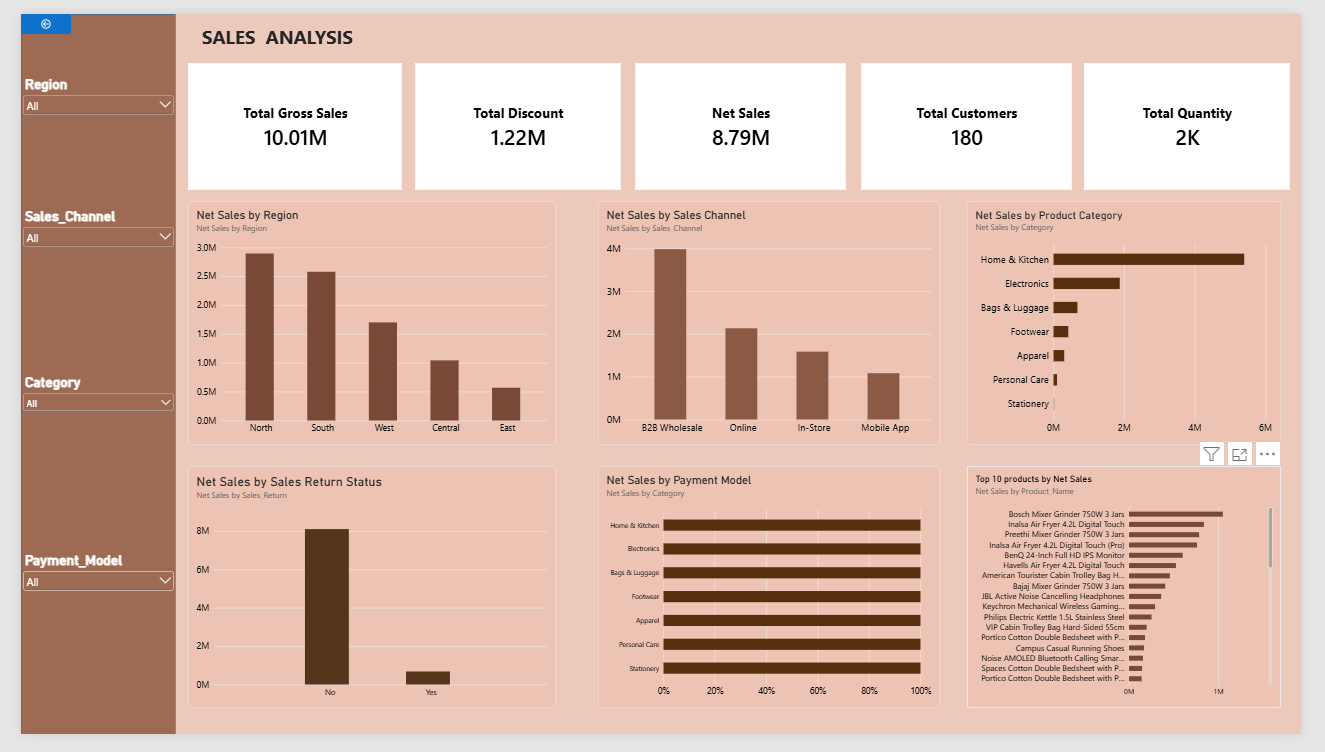

Layout of this report page (visuals, bound fields, positions):
{"tool":"powerbi","page":{"name":"Page 1","canvas":[2560,1440],"ordinal":0},"visuals":[{"type":"shape","box":[0,0,309.3,1439.5],"z":0},{"type":"actionButton","box":[0,0,100,40],"z":1000},{"type":"textbox","box":[310,20,715,65],"z":2000},{"type":"cardVisual","fields":{"Data":["Customer Data.Total Gross Sales"]},"box":[334,98,428,254],"z":3000},{"type":"cardVisual","fields":{"Data":["Customer Data.Total Discount"]},"box":[788,98,412,254],"z":4000},{"type":"cardVisual","fields":{"Data":["Customer Data.Net Sales"]},"box":[1228,98,422,254],"z":5000},{"type":"cardVisual","fields":{"Data":["Customer Data.Total Customers"]},"box":[1680,98,422,254],"z":6000},{"type":"cardVisual","fields":{"Data":["Customer Data.Total Quantity"]},"box":[2126,98,412,254],"z":7000},{"type":"columnChart","title":"Net Sales by Region","fields":{"Category":["Customer Data.Region"],"Y":["Customer Data.Net Sales"]},"box":[334,374,736,488],"z":8000},{"type":"clusteredColumnChart","title":"Net Sales by Sales Channel ","fields":{"Category":["Orders Data.Sales_Channel"],"Y":["Customer Data.Net Sales"]},"box":[1154,374,684,488],"z":9000},{"type":"clusteredColumnChart","title":"Net Sales by Sales Return Status ","fields":{"Category":["Orders Data.Sales_Return"],"Y":["Customer Data.Net Sales"]},"box":[334,904,736,484],"z":10000},{"type":"hundredPercentStackedBarChart","title":"Net Sales by Payment Model","fields":{"Category":["Product Data.Category"],"Y":["Customer Data.Net Sales"]},"box":[1154,904,684,484],"z":11000},{"type":"clusteredBarChart","title":"Net Sales by Product Category ","fields":{"Category":["Product Data.Category"],"Y":["Customer Data.Net Sales"]},"box":[1892,374,628,488],"z":12000},{"type":"clusteredBarChart","title":"Top 10 products by Net Sales","fields":{"Category":["Product Data.Product_Name"],"Y":["Customer Data.Net Sales"]},"box":[1892,904,628,484],"z":13000},{"type":"slicer","fields":{"Values":["Customer Data.Region"]},"box":[0,124,310,140],"z":14000},{"type":"slicer","fields":{"Values":["Orders Data.Sales_Channel"]},"box":[0,388,310,140],"z":15000},{"type":"slicer","fields":{"Values":["Product Data.Category"]},"box":[0,720,310,140],"z":16000},{"type":"slicer","fields":{"Values":["Orders Data.Payment_Model"]},"box":[0,1076,310,140],"z":17000}]}

Visuals, with their boxes on the page's 2560x1440 design canvas (x1, y1, x2, y2). These are canvas units, not pixel positions in the 1325x752 screenshot, which may show the page scaled, cropped or inside an application window:
shape: 0 0 309 1440
actionButton: 0 0 100 40
textbox: 310 20 1025 85
cardVisual - Customer Data.Total Gross Sales: 334 98 762 352
cardVisual - Customer Data.Total Discount: 788 98 1200 352
cardVisual - Customer Data.Net Sales: 1228 98 1650 352
cardVisual - Customer Data.Total Customers: 1680 98 2102 352
cardVisual - Customer Data.Total Quantity: 2126 98 2538 352
"Net Sales by Region" columnChart: 334 374 1070 862
"Net Sales by Sales Channel " clusteredColumnChart: 1154 374 1838 862
"Net Sales by Sales Return Status " clusteredColumnChart: 334 904 1070 1388
"Net Sales by Payment Model" hundredPercentStackedBarChart: 1154 904 1838 1388
"Net Sales by Product Category " clusteredBarChart: 1892 374 2520 862
"Top 10 products by Net Sales" clusteredBarChart: 1892 904 2520 1388
slicer - Customer Data.Region: 0 124 310 264
slicer - Orders Data.Sales_Channel: 0 388 310 528
slicer - Product Data.Category: 0 720 310 860
slicer - Orders Data.Payment_Model: 0 1076 310 1216
